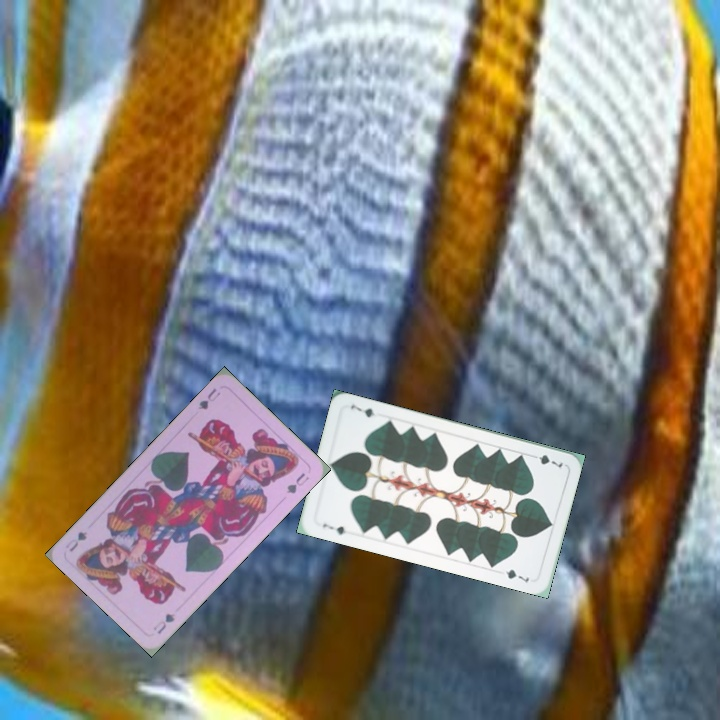G7: (526, 450, 565, 470), (318, 519, 348, 537)
GU: (194, 384, 223, 412), (149, 609, 177, 637)
